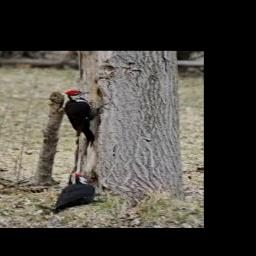Woodpecker: (64, 90, 112, 148), (56, 173, 108, 210)
